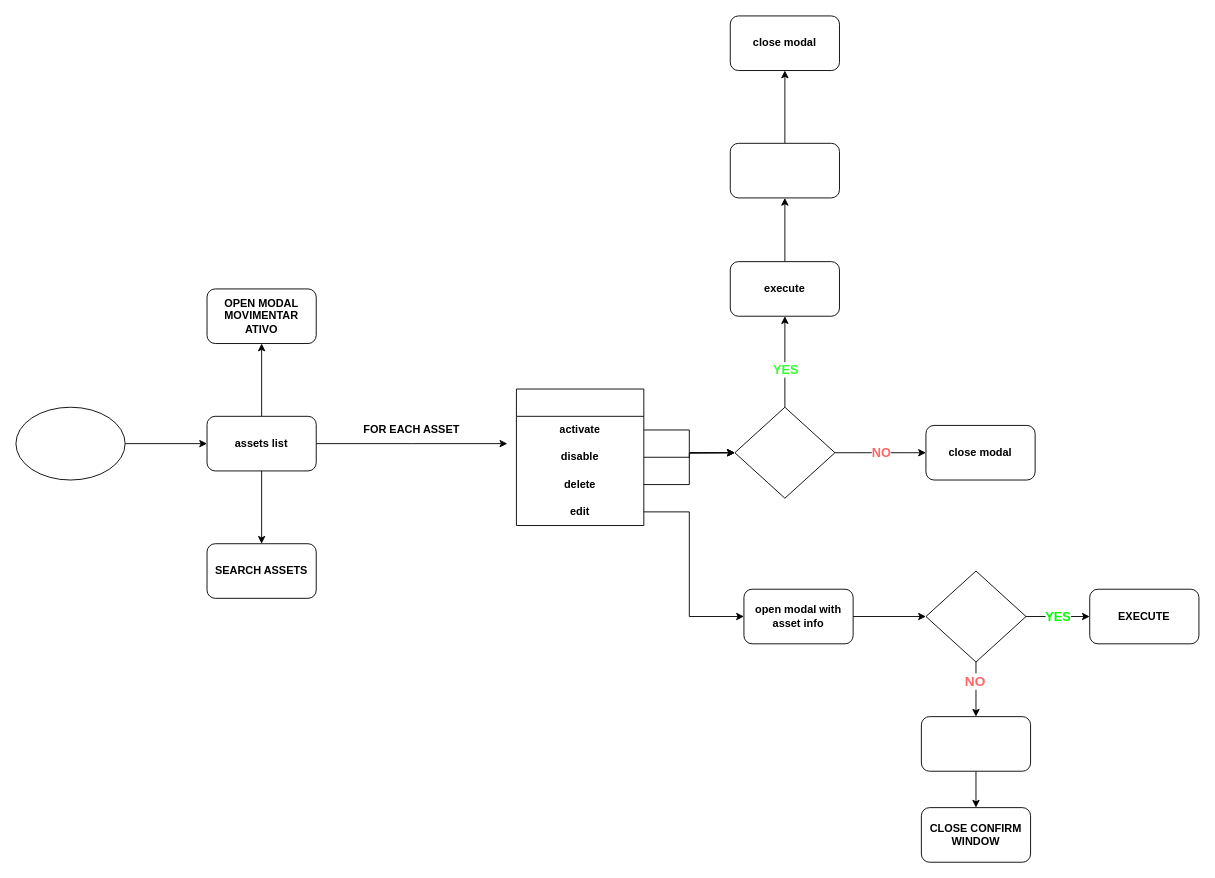
Image size: 1215x878. Some labels were removed from this diagram. Each missing label, with the box of its shape:
confirm?: (734, 406, 835, 498)
options (btns): (516, 388, 644, 526)
SHOW ERROR: (920, 716, 1031, 771)
show success message: (729, 142, 839, 198)
validate?: (925, 570, 1026, 662)
